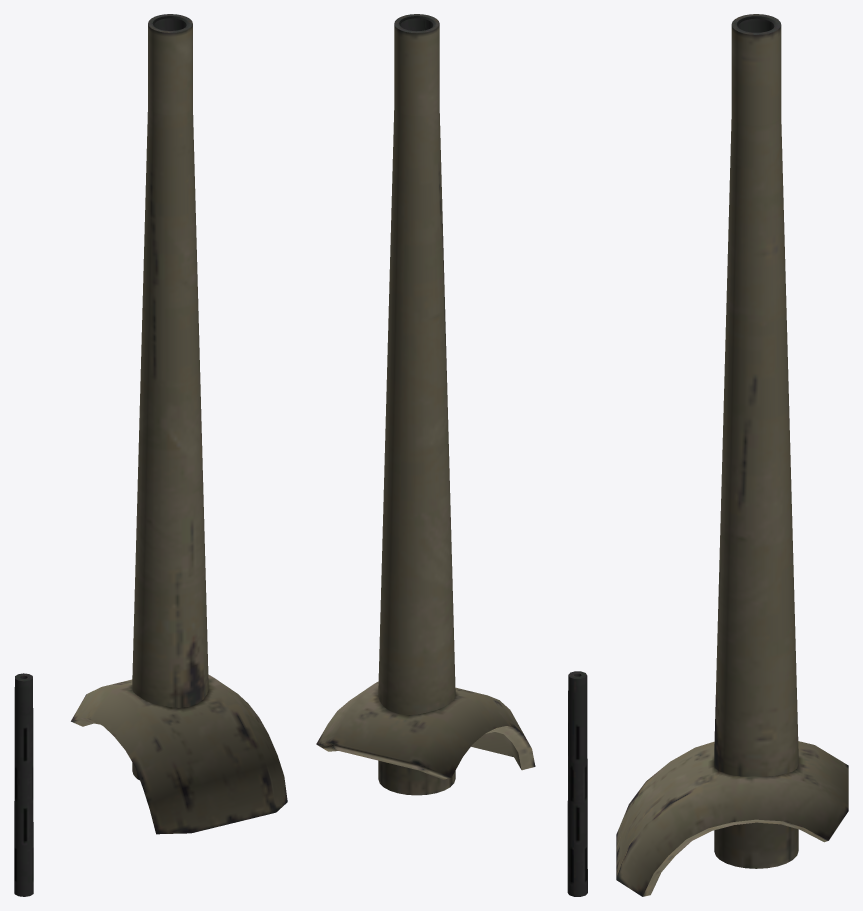
File: Gun_06.glb
3 views of the same model, side by side, from view 1: azimuth 30°, elevation 25°; view 2: azimuth 150°, elevation 25°; view 3: azimuth 270°, elevation 25° (orthographic). The views are drawn at different scales.
Visible parts, largest first — view 1: set_0_group_0; view 2: set_0_group_0; view 3: set_0_group_0.
Part boxes in pixels (x1,y1,x2,y2): set_0_group_0: [14, 14, 287, 896]; set_0_group_0: [316, 14, 587, 896]; set_0_group_0: [616, 14, 848, 896].
Size of the model in its own units: 0.6142 by 2.12 by 0.4878.
Materials: 1 (1 with a texture image).
